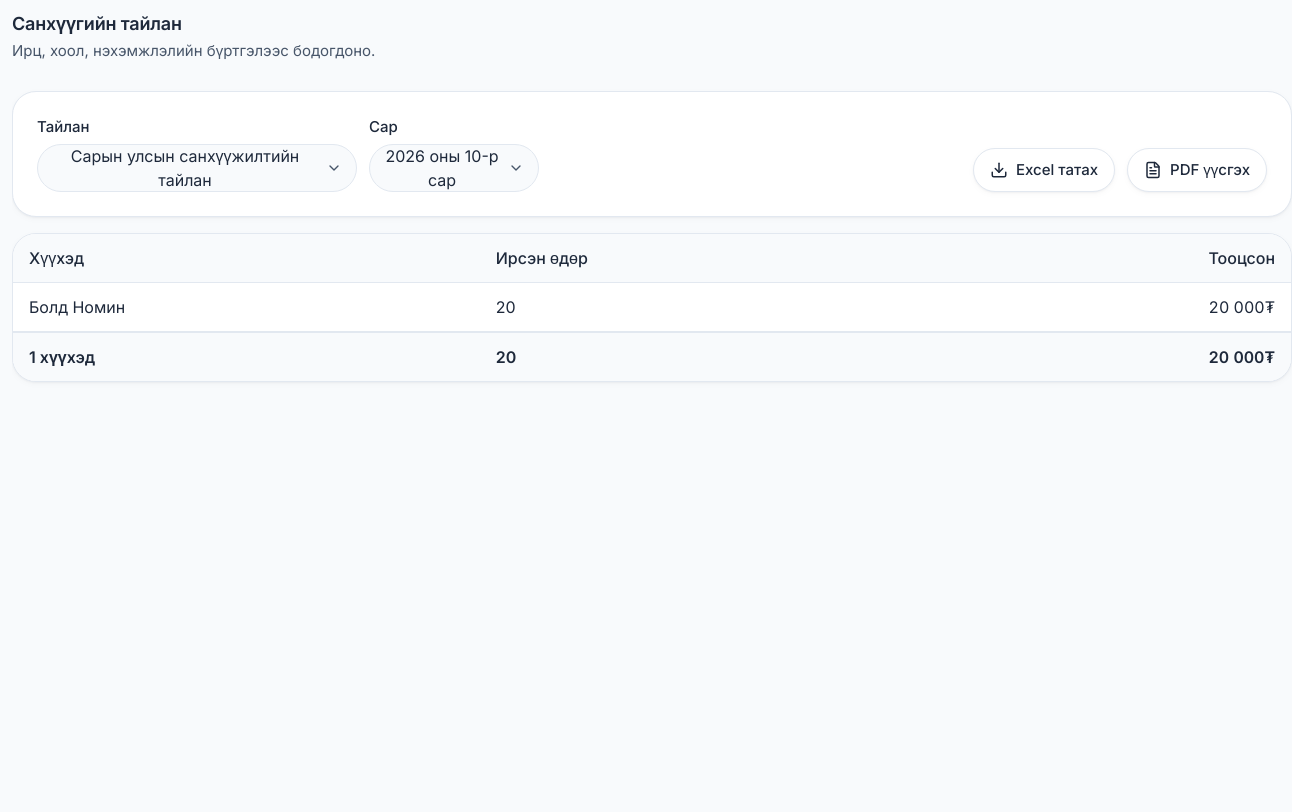
Test: the financial reports panel › swaps the month picker for a school year on the annual report
The image size is (1292, 812).
expect the heading "Санхүүгийн тайлан" is shown: met, box left=12, top=13, right=182, bottom=34
Click the dropdown labelled "тайлан".
click(197, 168)  # box left=37, top=144, right=357, bottom=192
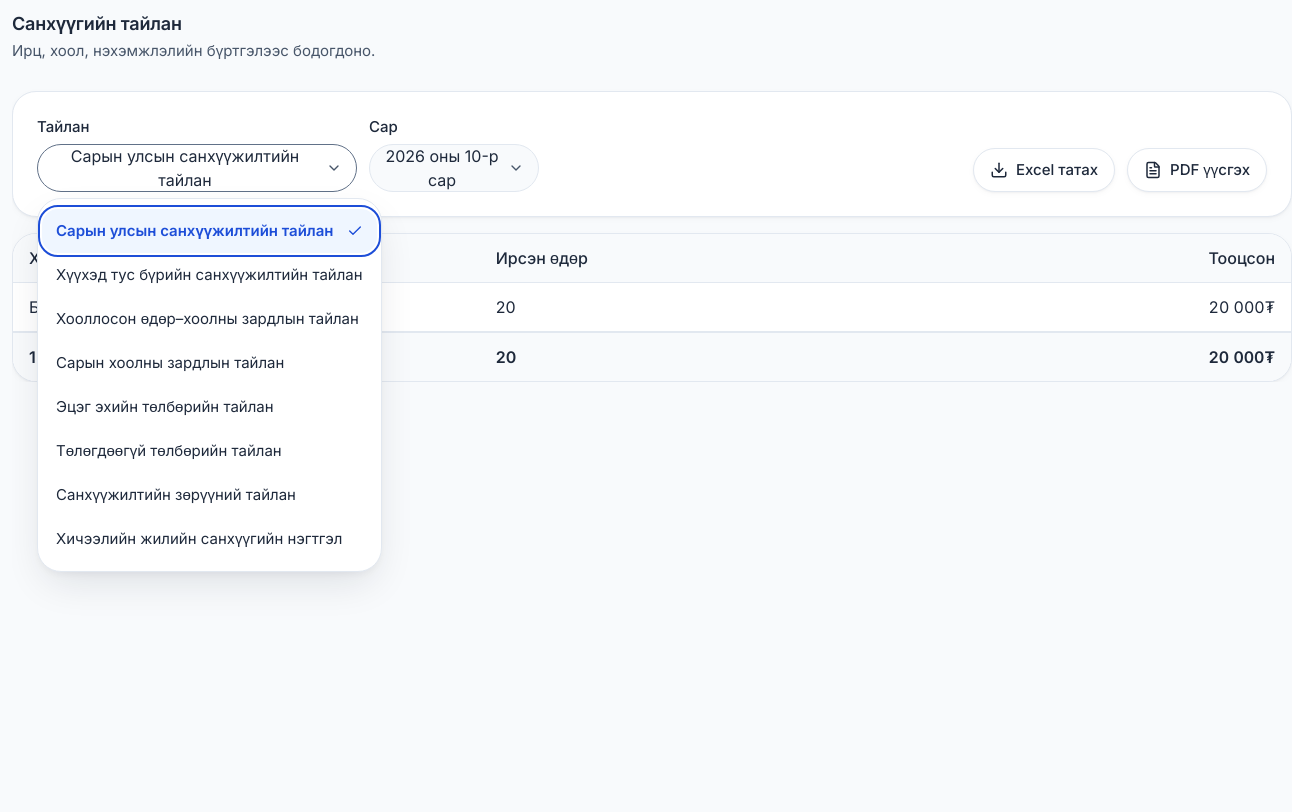
Click the option "Хичээлийн жилийн санхүүгийн нэгтгэл".
click(199, 538)  # box left=56, top=529, right=342, bottom=548
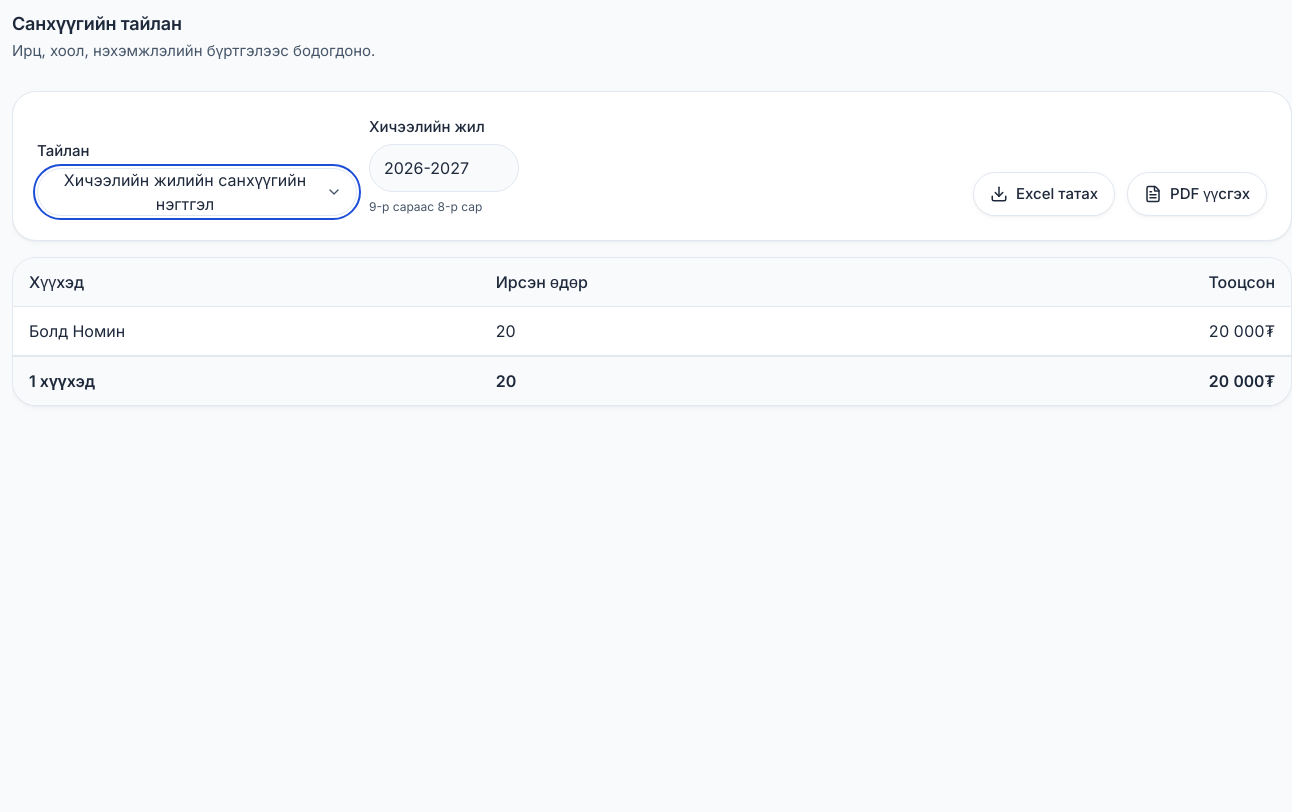
expect the field labelled "Хичээлийн жил" is shown: met, box left=369, top=144, right=519, bottom=192
